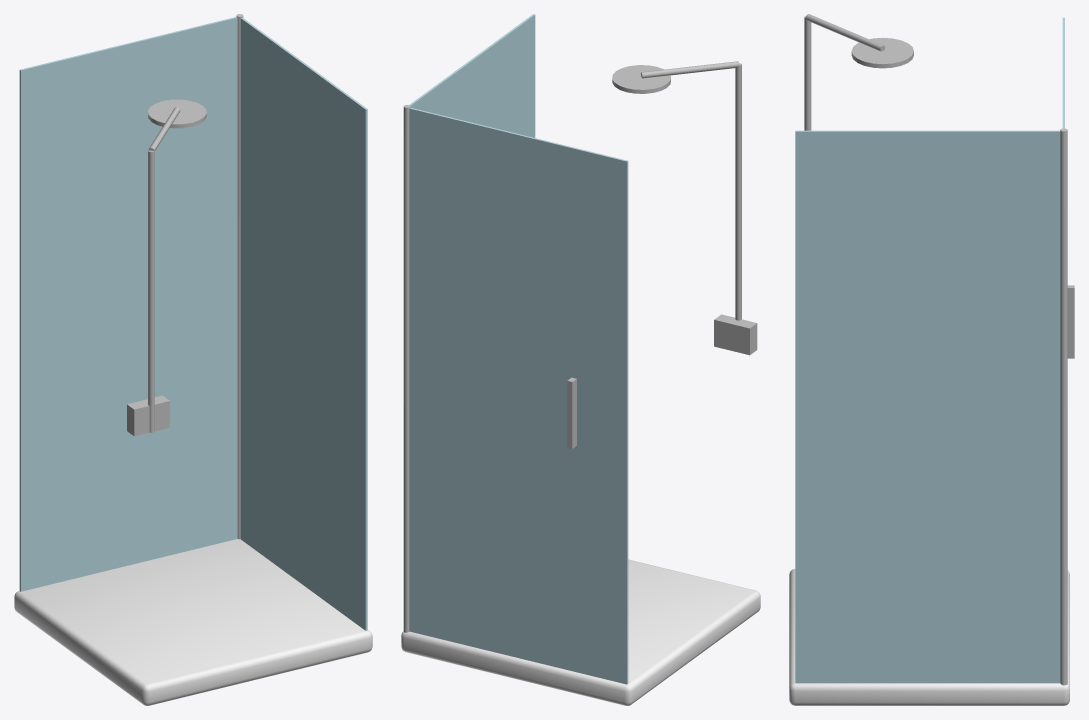
The model's file is fixture.shower.glb.
3 renders of one model, left to right at view 1: azimuth 30°, elevation 25°; view 2: azimuth 150°, elevation 25°; view 3: azimuth 270°, elevation 25°, orthographic. The views are drawn at different scales.
Parts seen in each view (by area): view 1: screen__glass, tray__enamel, taps__steel_stainless, screen__aluminium; view 2: screen__glass, tray__enamel, taps__steel_stainless, screen__aluminium, screen__steel_stainless; view 3: screen__glass, tray__enamel, screen__aluminium, taps__steel_stainless, screen__steel_stainless.
Part boxes in pixels (x1,y1,x2,y2): screen__glass: (19,17,367,630); tray__enamel: (14,539,372,705); taps__steel_stainless: (127,99,206,436); screen__aluminium: (236,14,243,539); screen__glass: (409,14,628,684); tray__enamel: (401,559,760,705); taps__steel_stainless: (612,61,757,355); screen__aluminium: (403,105,410,632); screen__steel_stainless: (567,377,576,448); screen__glass: (795,17,1064,683); tray__enamel: (789,569,1069,705); screen__aluminium: (1060,128,1067,685); taps__steel_stainless: (804,14,913,130); screen__steel_stainless: (1067,285,1074,358).
Size of the model in its own units: 0.91 by 2.06 by 0.915.
